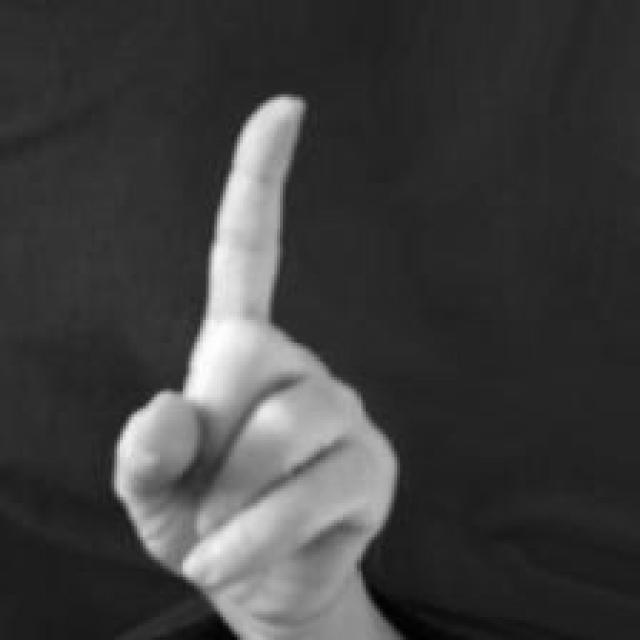I: (104, 92, 418, 640)
